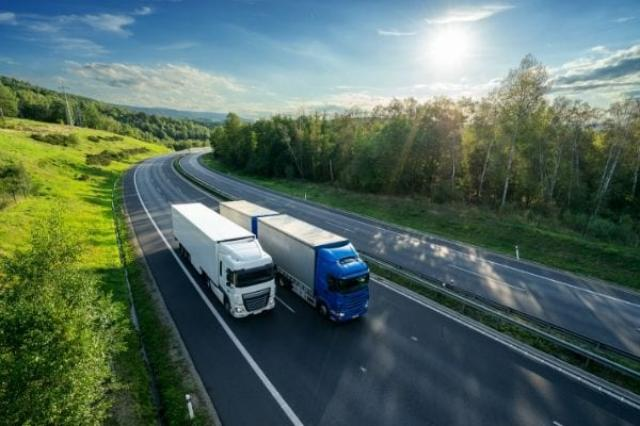truck: (172, 204, 276, 317), (278, 219, 372, 318)
